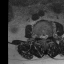CCS_normal: (42, 32, 45, 42)
LFS_normal: (47, 31, 50, 39)
LLS_normal: (45, 31, 47, 41)
RFS_normal: (37, 32, 40, 39)
RLS_normal: (40, 32, 42, 41)
